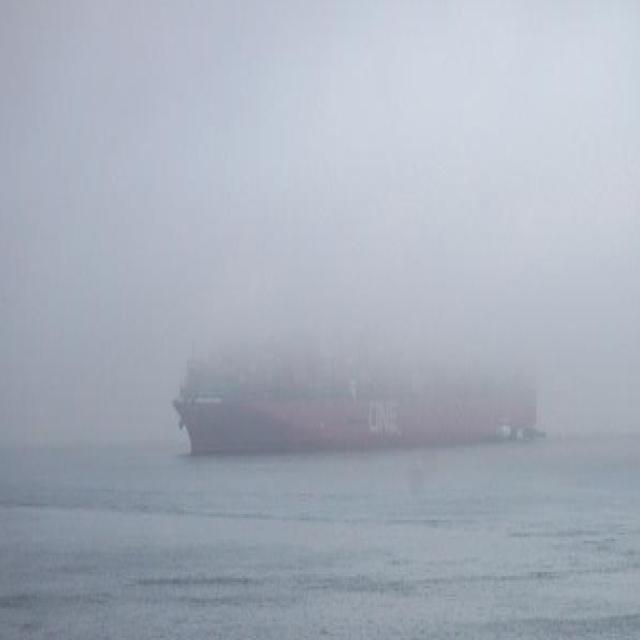cargoship: (176, 295, 536, 454)
